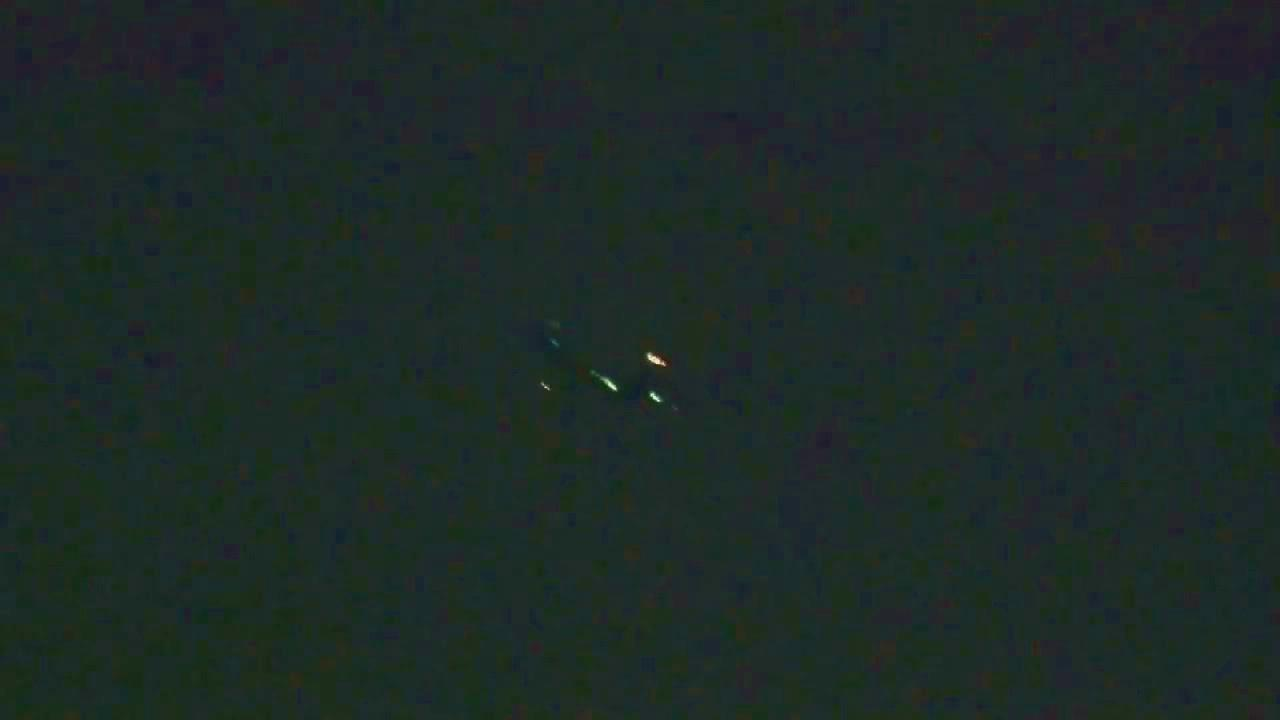Plane: (498, 302, 693, 431)
